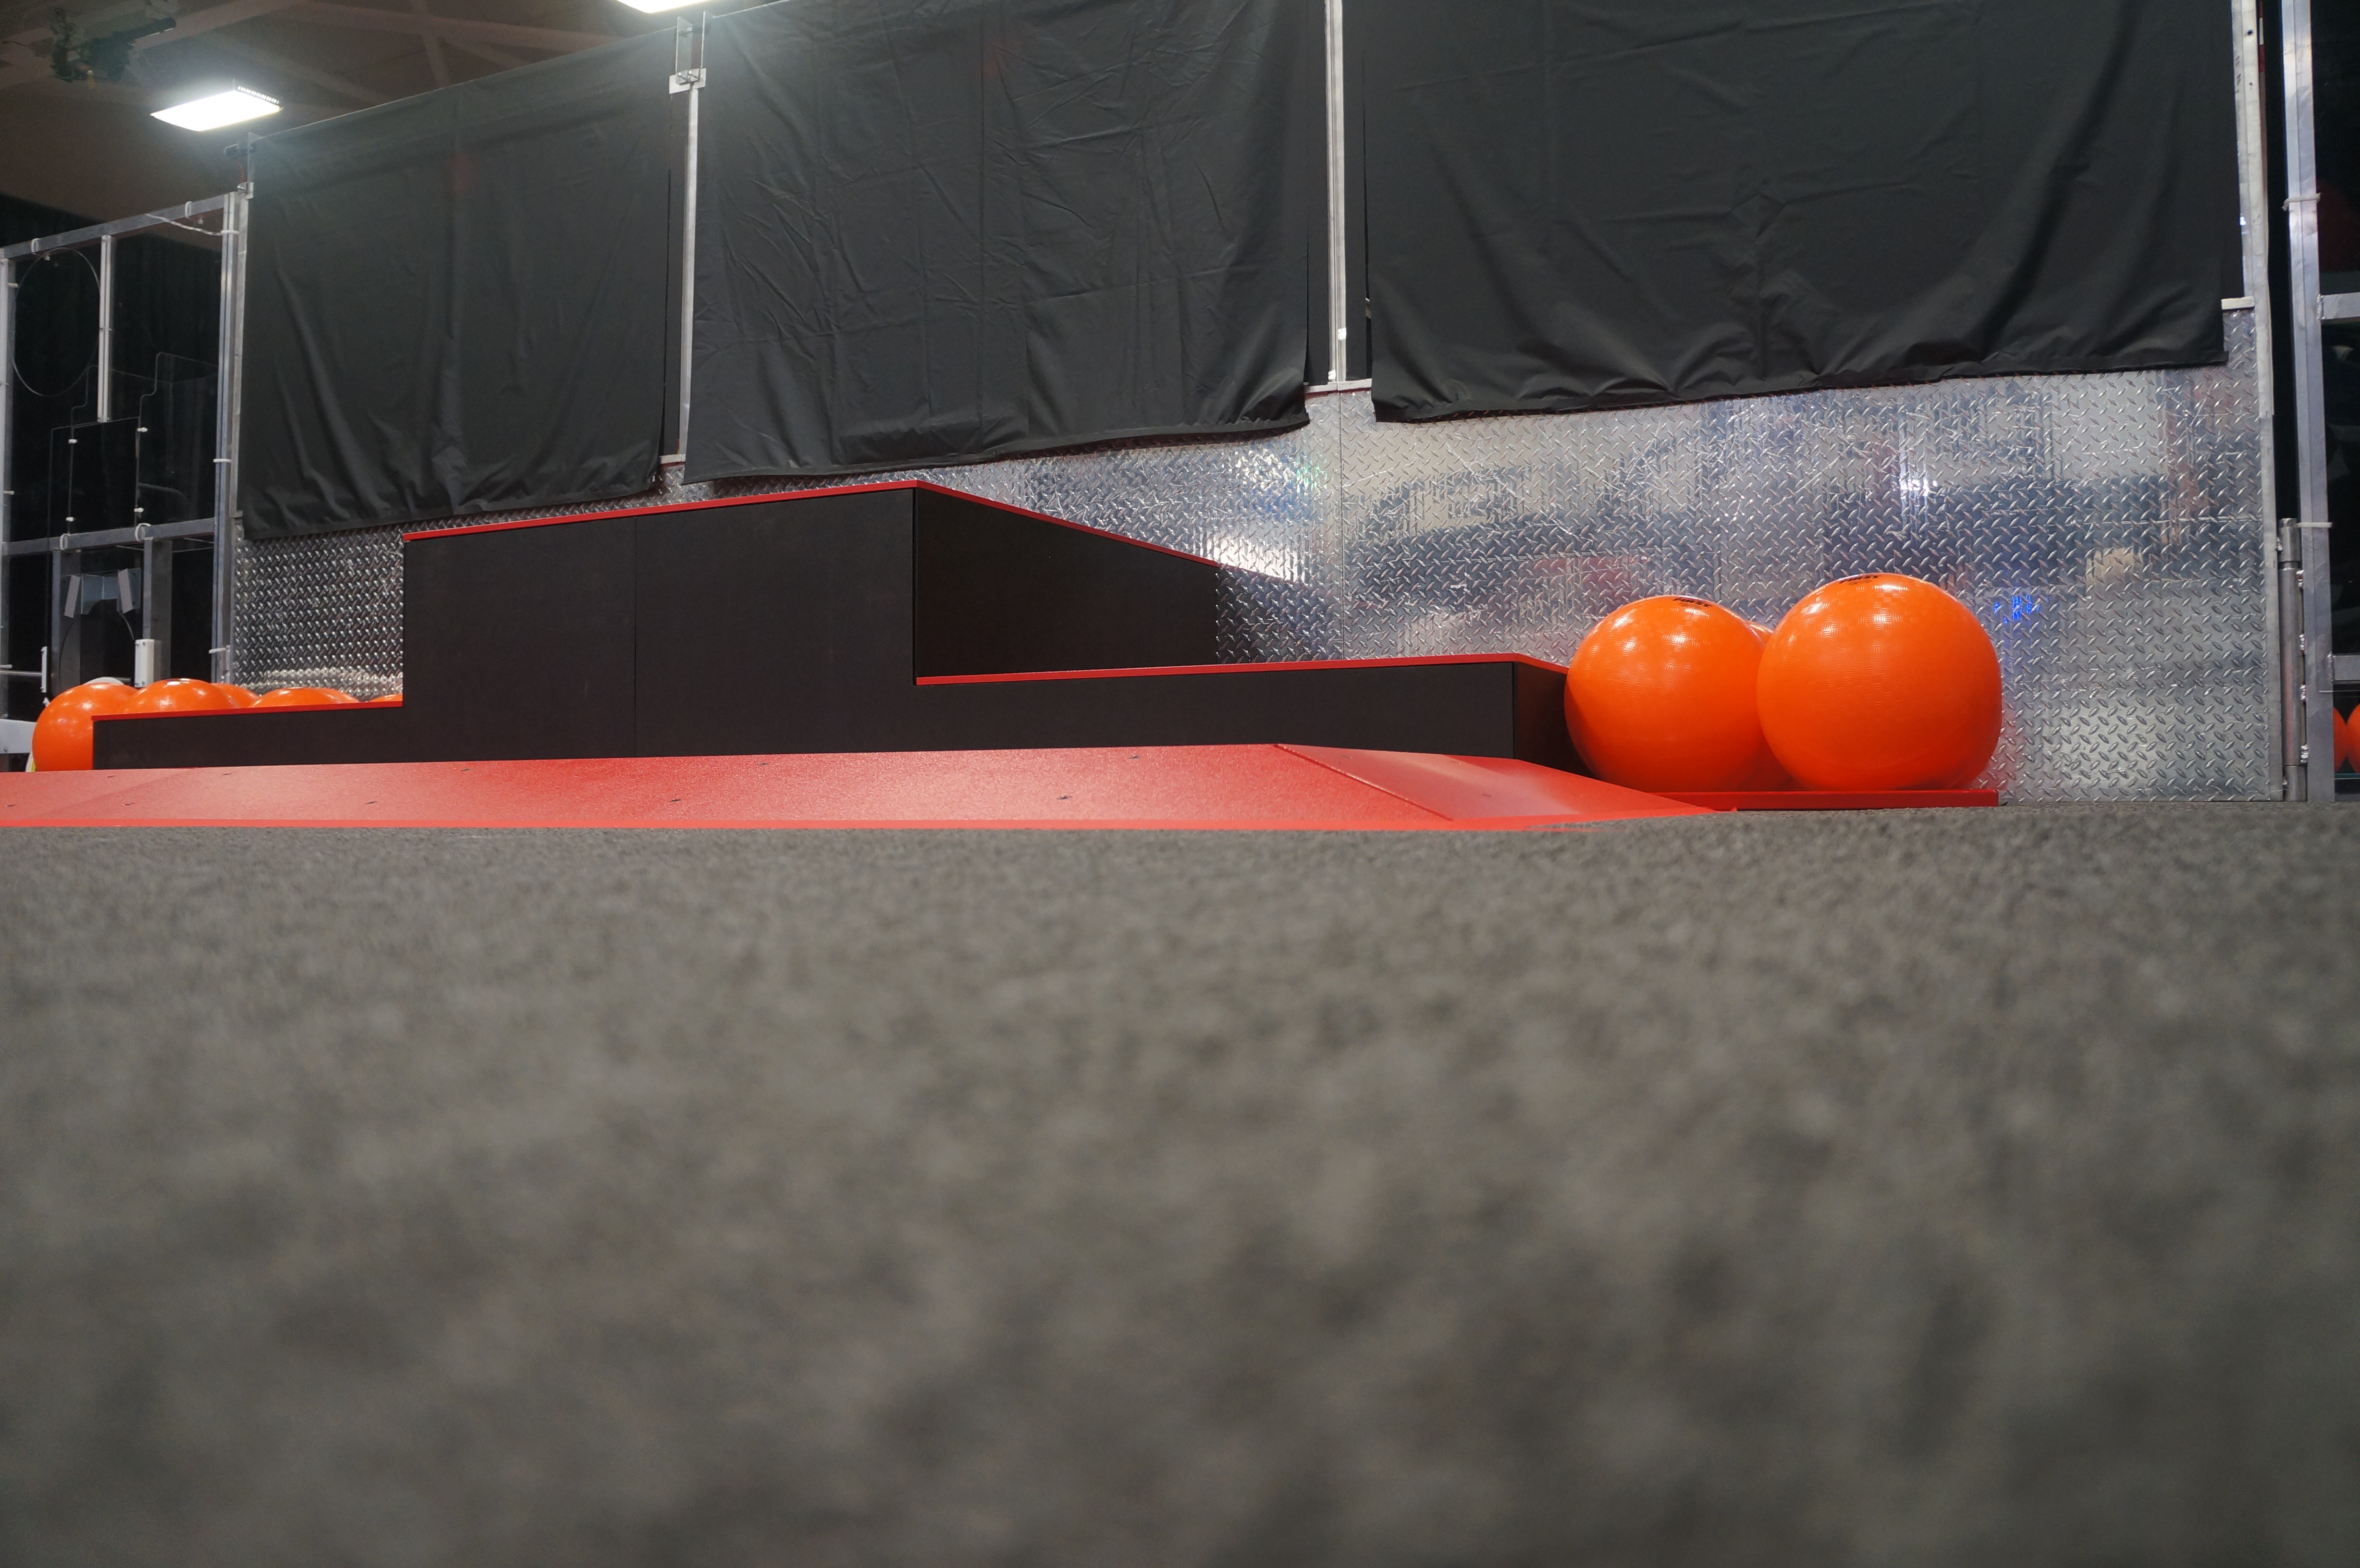Ball: (1756, 572, 2007, 793), (1559, 591, 1762, 796), (31, 677, 150, 780)
